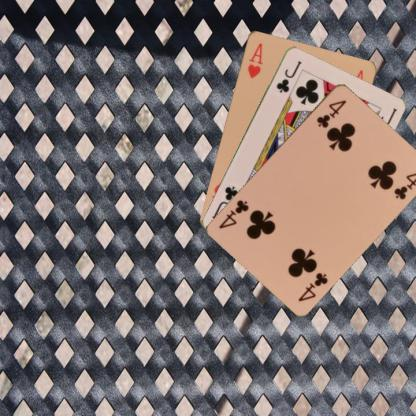4c: (295, 269, 329, 303), (314, 96, 348, 129)
Ah: (244, 40, 264, 79)
Jc: (273, 58, 303, 93)
